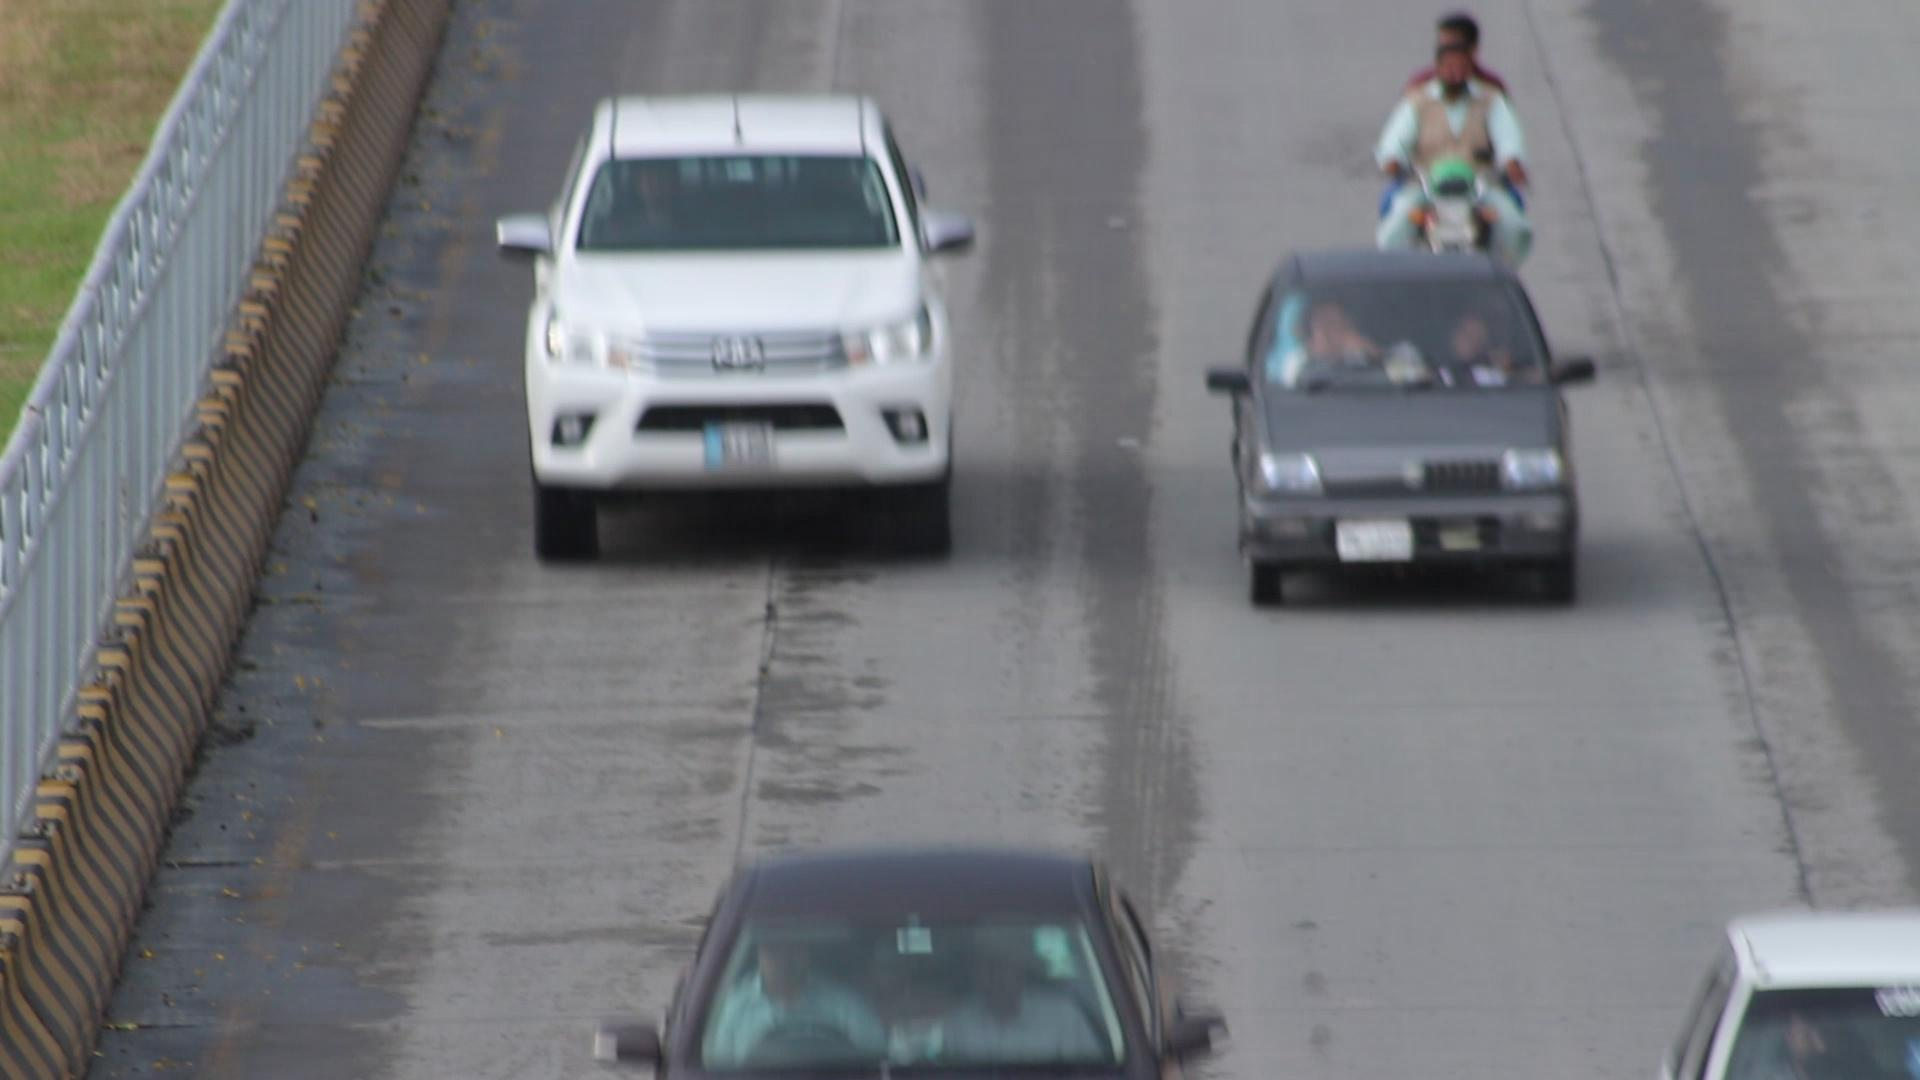windshield: (558, 127, 918, 264), (1250, 257, 1567, 397)
